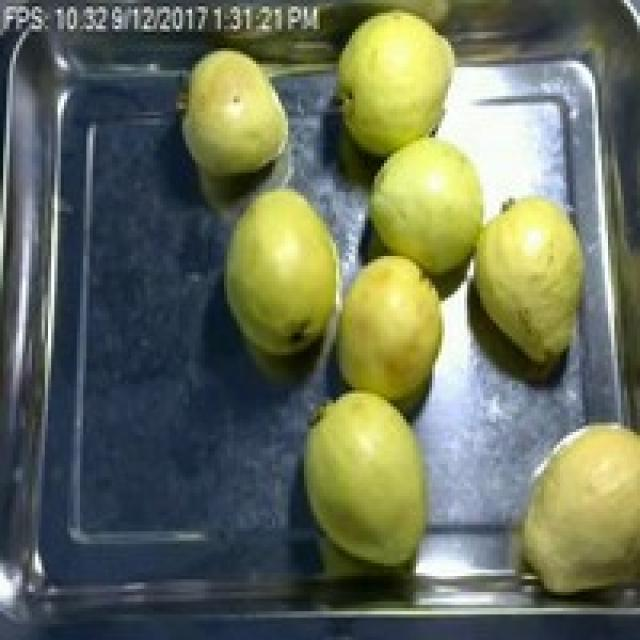Fruit: (454, 179, 608, 387), (291, 381, 445, 576), (502, 400, 640, 614), (329, 0, 474, 192), (214, 176, 356, 368), (320, 240, 461, 429), (358, 125, 509, 291), (170, 36, 304, 182)
